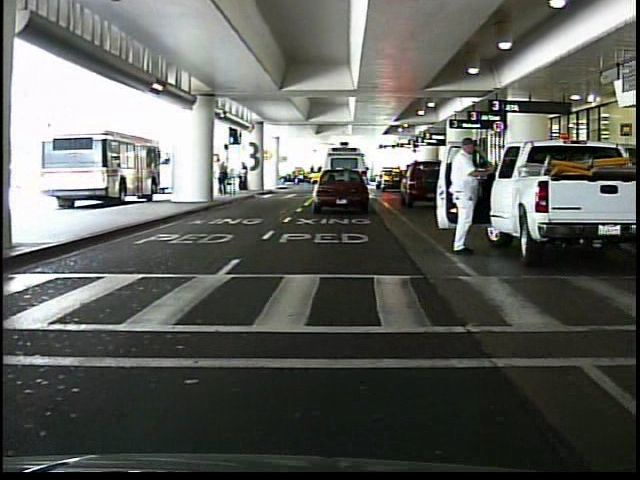person: (445, 132, 482, 258), (215, 155, 229, 200), (235, 163, 251, 196)
